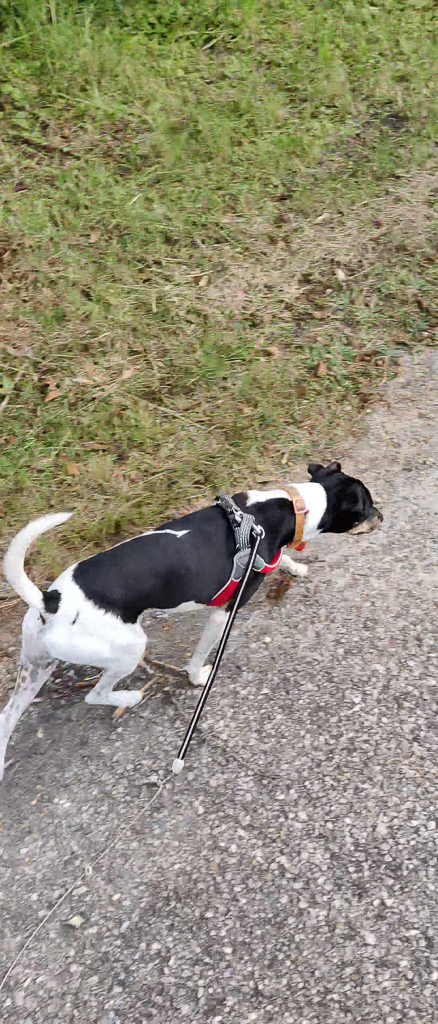Dog: (0, 453, 395, 796)
